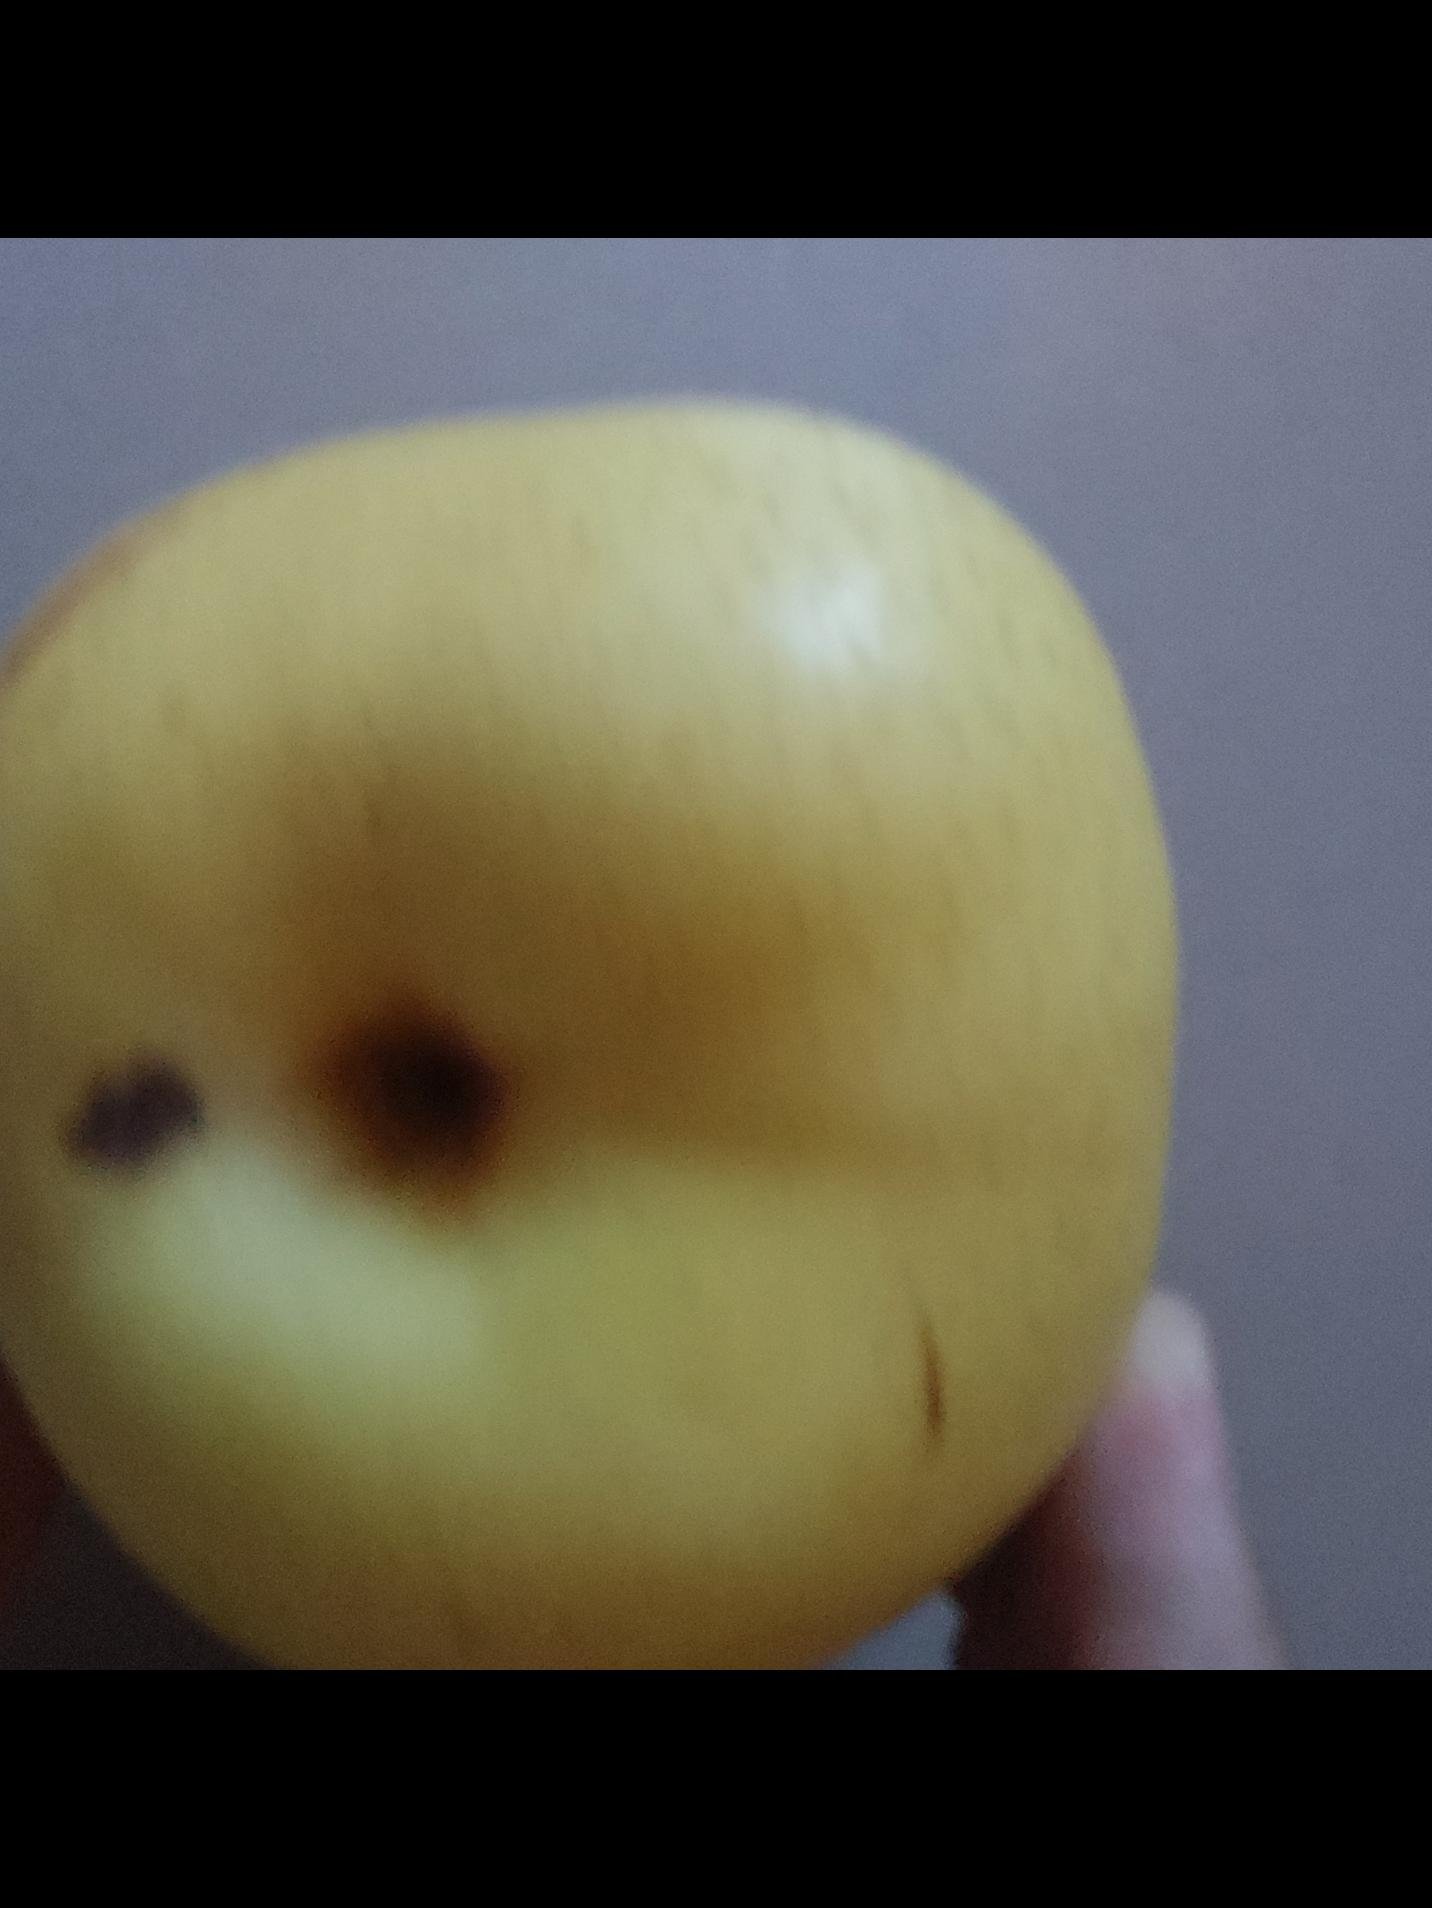Good Pear: (0, 403, 1178, 1670)
